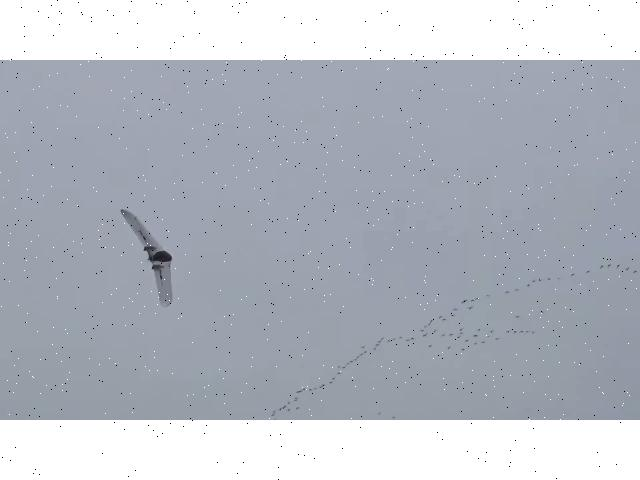Anti-Drone: (124, 209, 170, 307)
